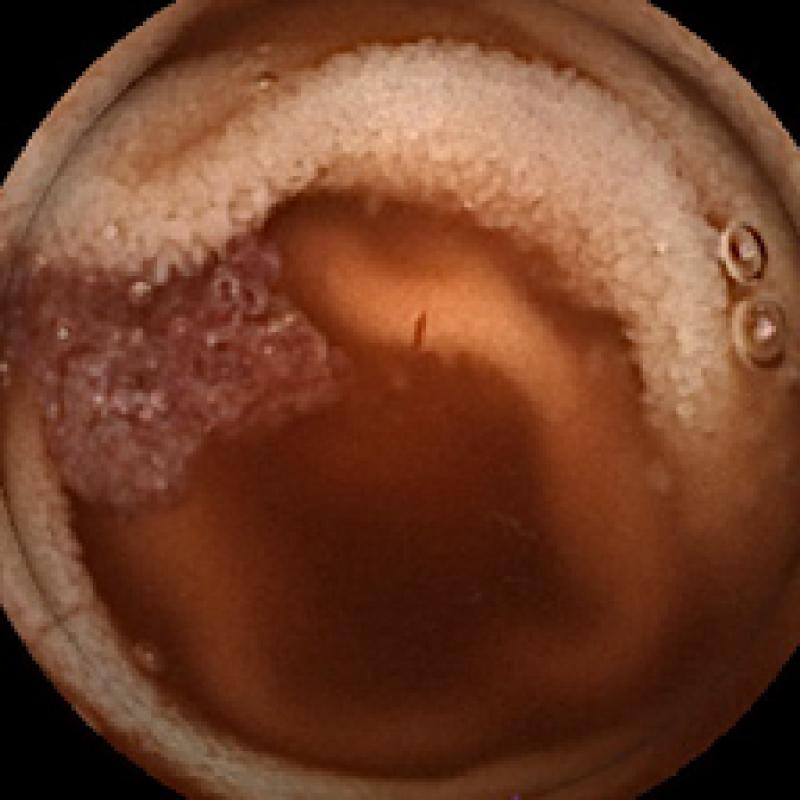bleeding: (43, 275, 318, 489)
